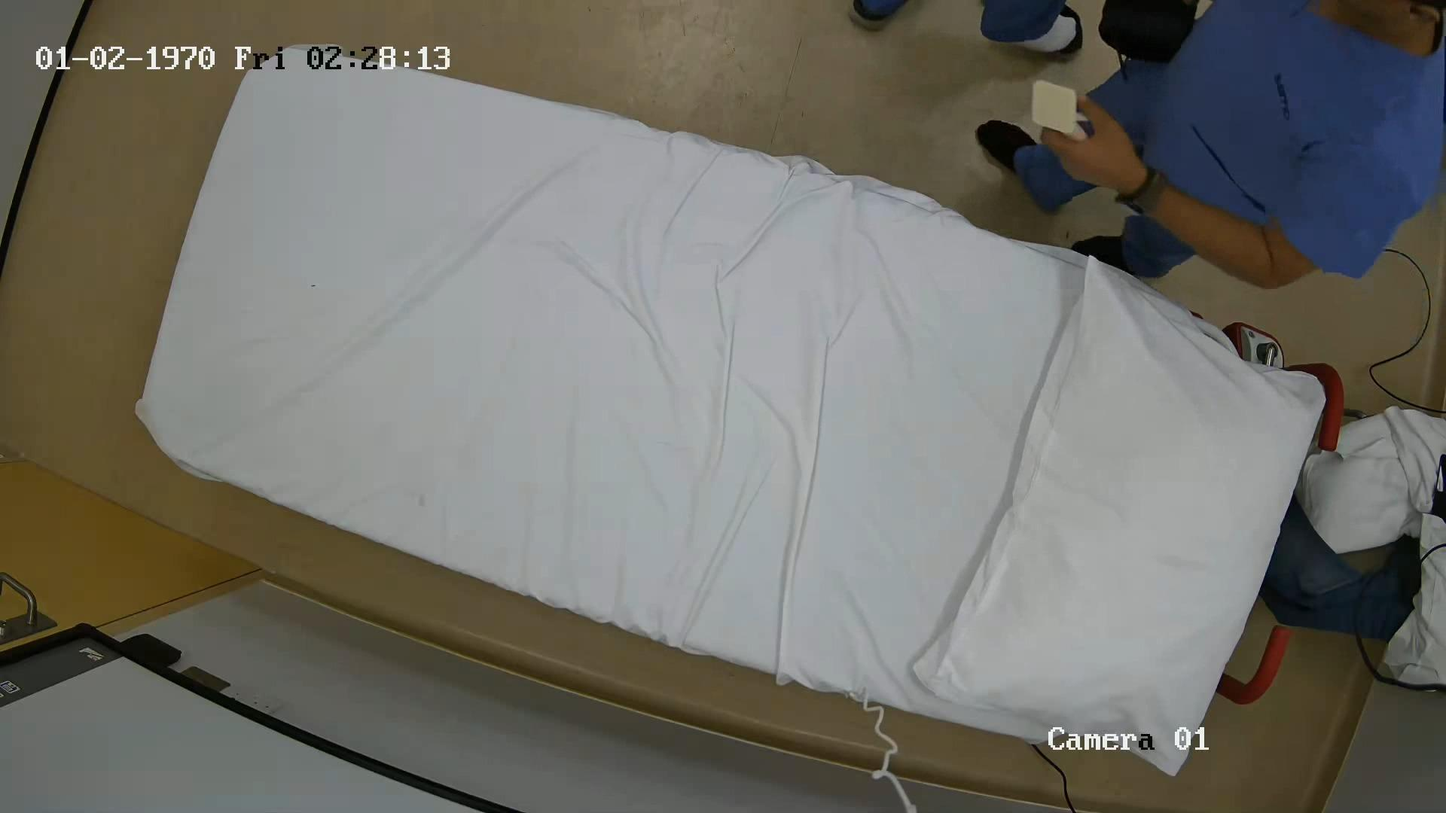bed: (138, 46, 1342, 774)
prepstick: (1030, 80, 1085, 139)
